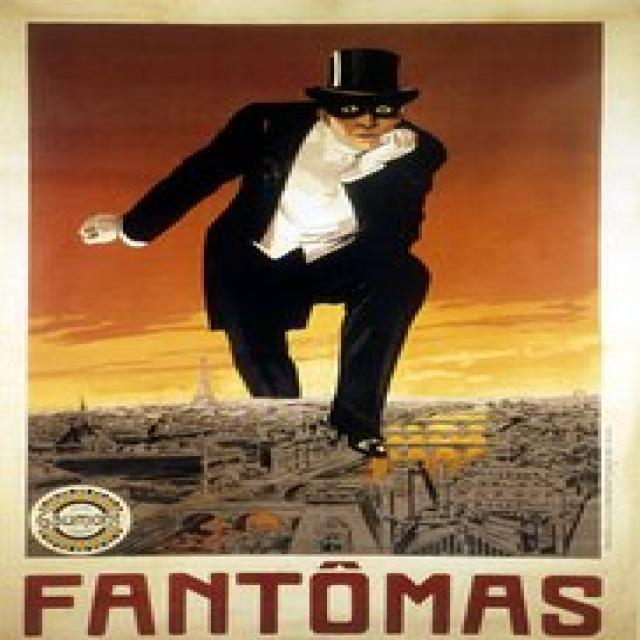movie-judul: (21, 556, 615, 640)
picture: (29, 22, 603, 556)
